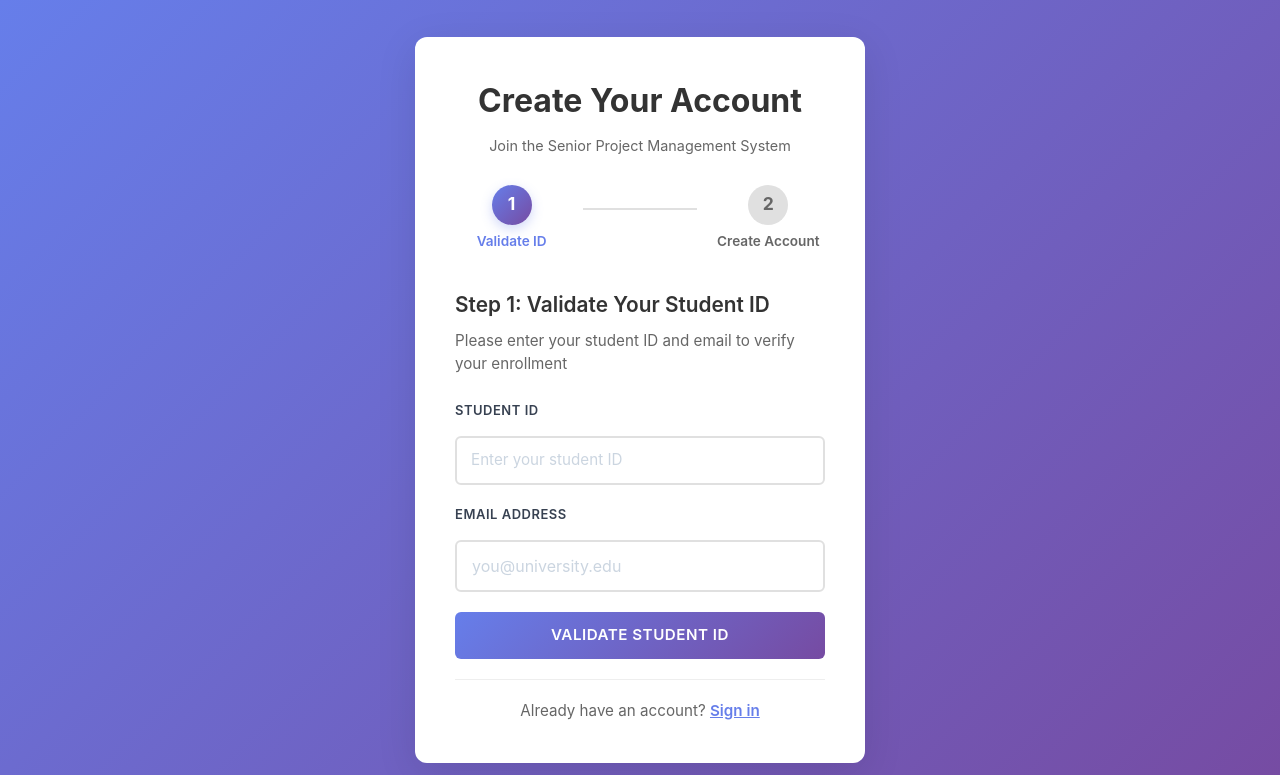
Test: RegisterForm (Two-Step Registration) › Step 2: Account Creation › shows confirm password mismatch error
Step 1. Type "STU-123" into the field labelled "Student ID" → [640, 461], box [455,436,825,485]
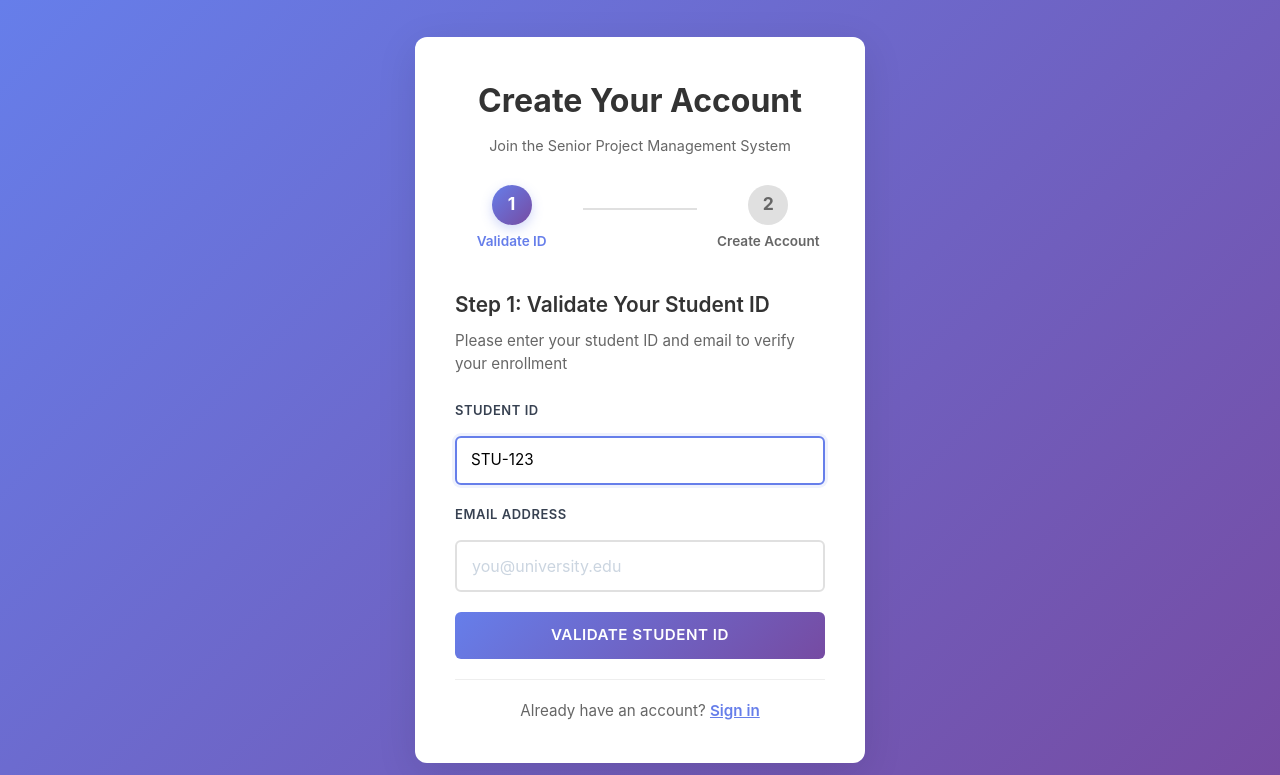
Step 2. Type "test@university.edu" into the field labelled "Email Address" → [640, 566], box [455,540,825,592]
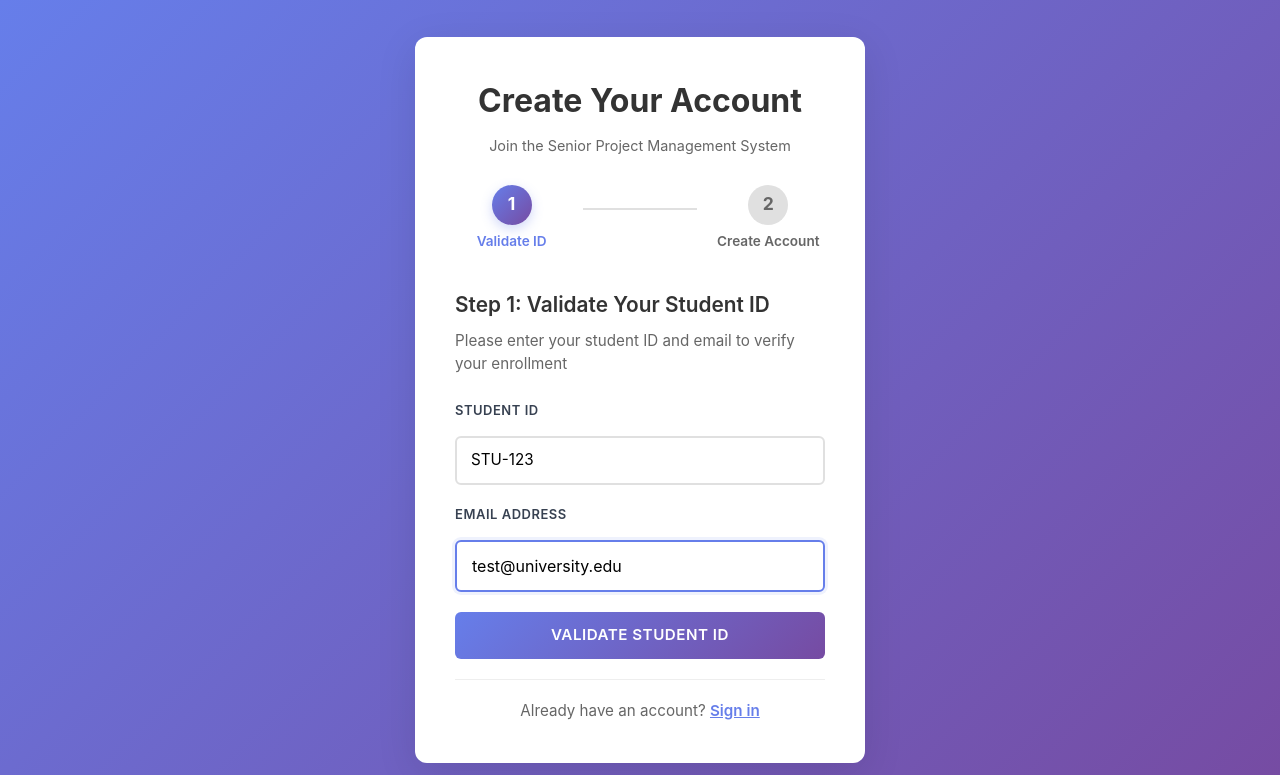
Step 3. Click the button "Validate Student ID" → [640, 636], box [455,612,825,659]
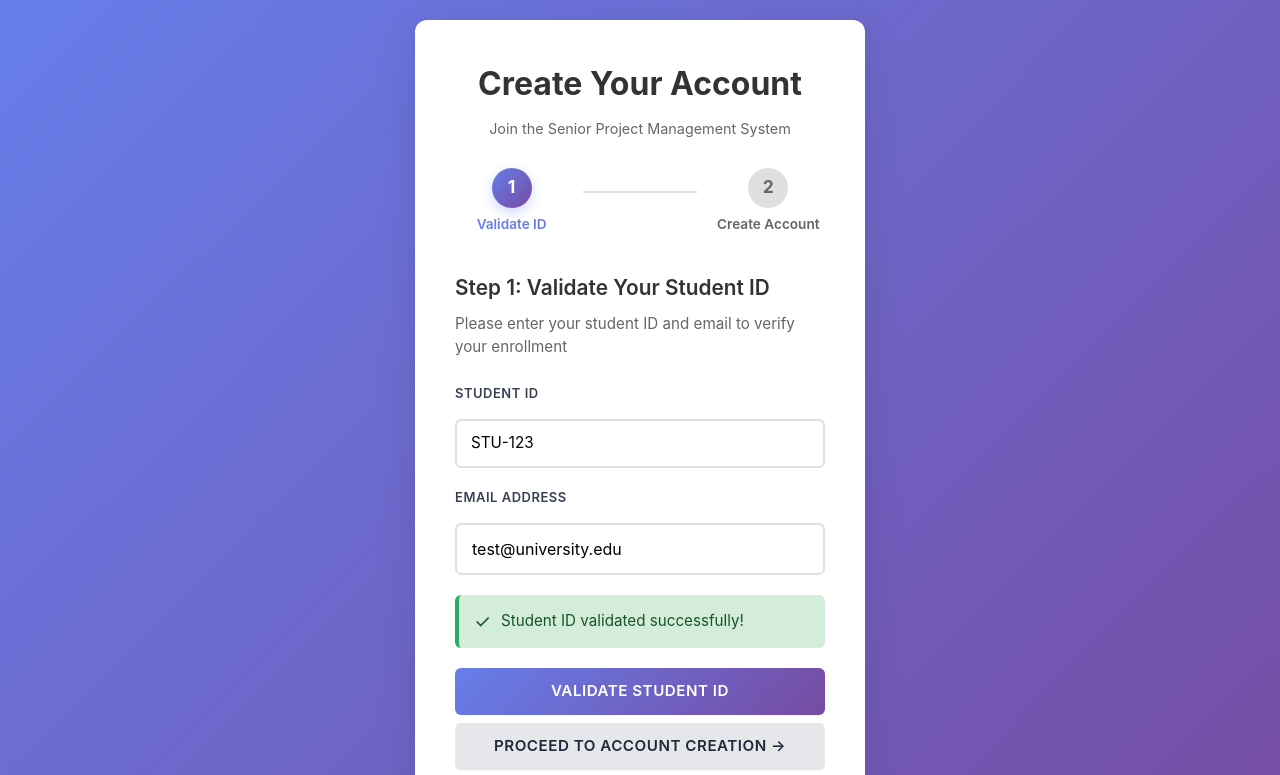
Check: the button "Proceed to Account Creation →" is shown
Step 4. Click the button "Proceed to Account Creation →" → [640, 746], box [455,723,825,770]
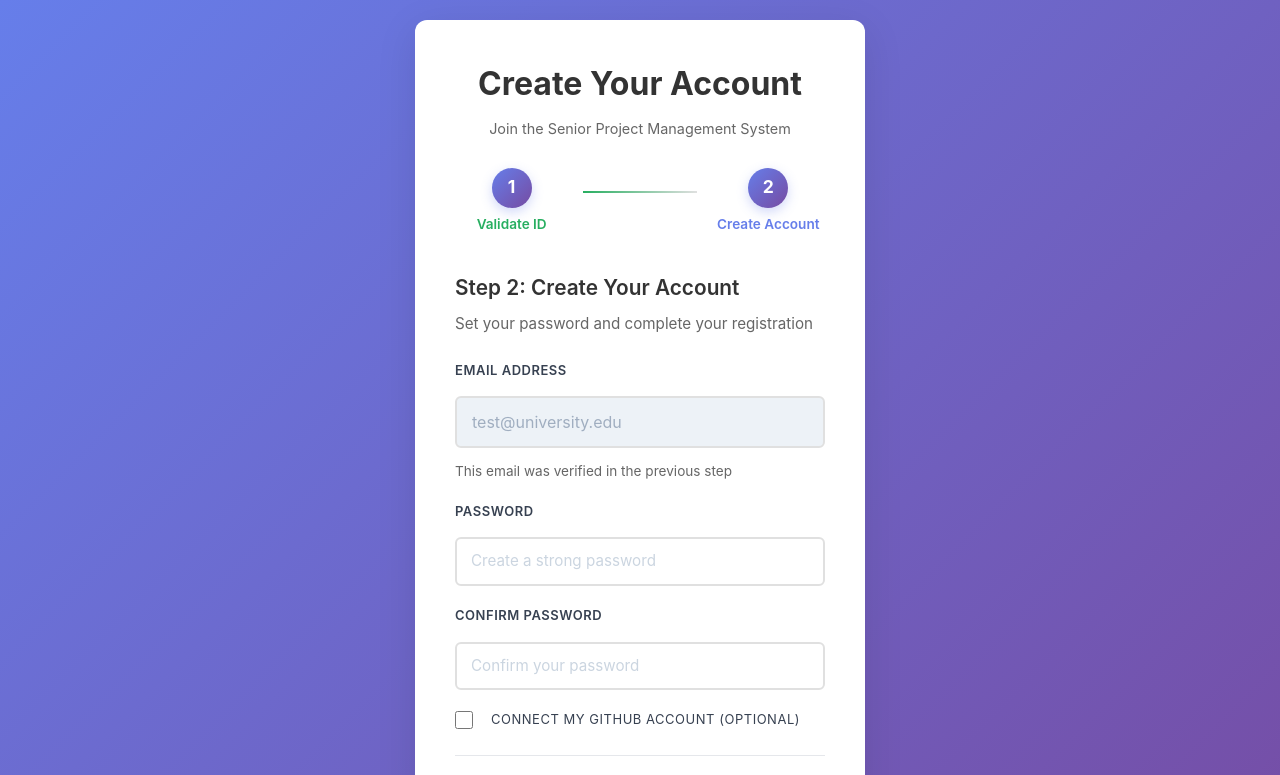
Step 5. Type "SecurePass123!" into the password field labelled "Password" → [640, 562], box [455,537,825,586]
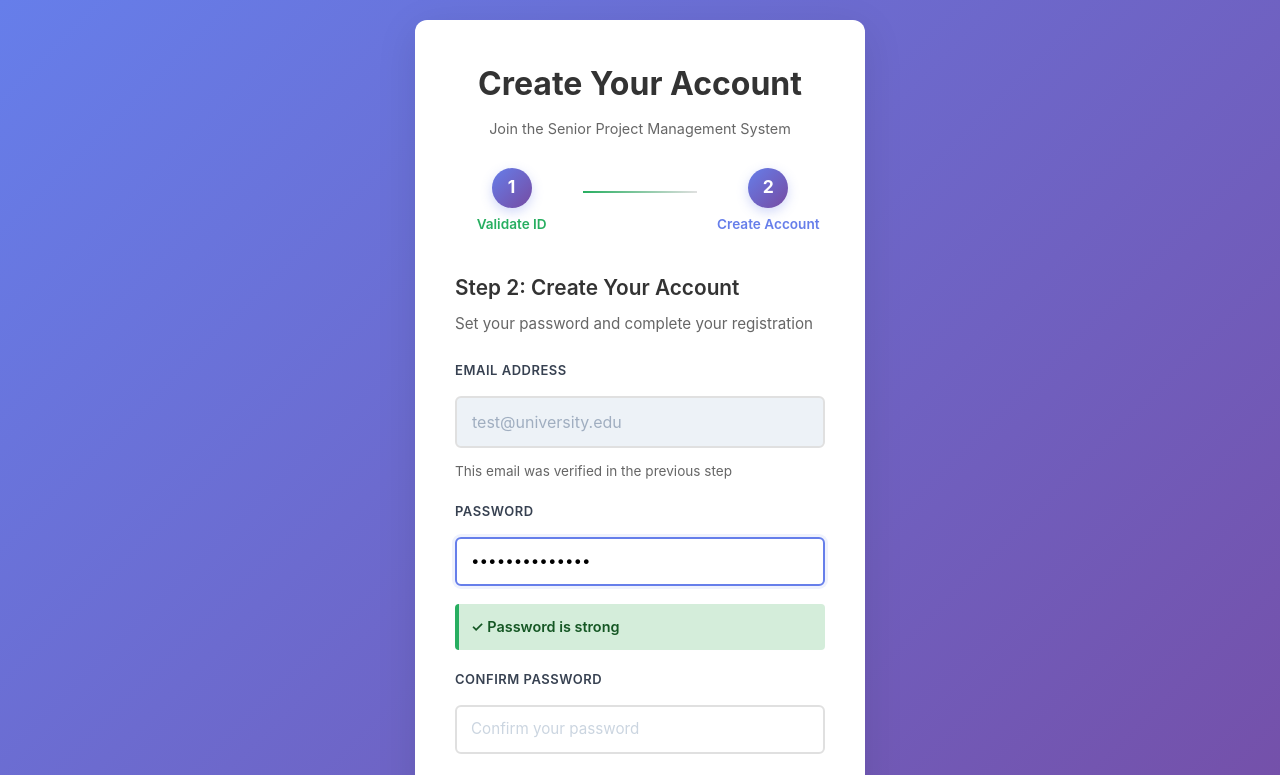
Step 6. Type "DifferentPass123!" into the password field labelled "Confirm Password" → [640, 730], box [455,705,825,754]
(page scrolled)
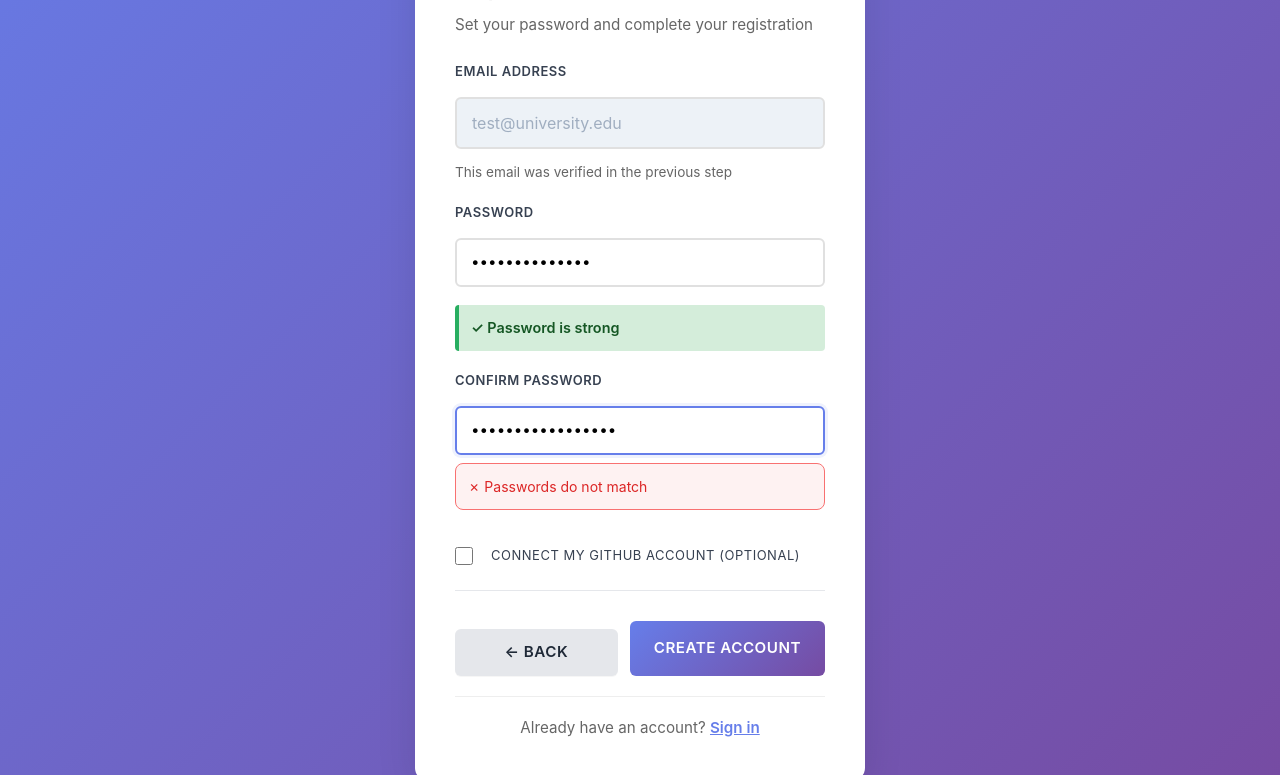
Check: the text "✗ Passwords do not match" is shown, box [455,463,825,510]
